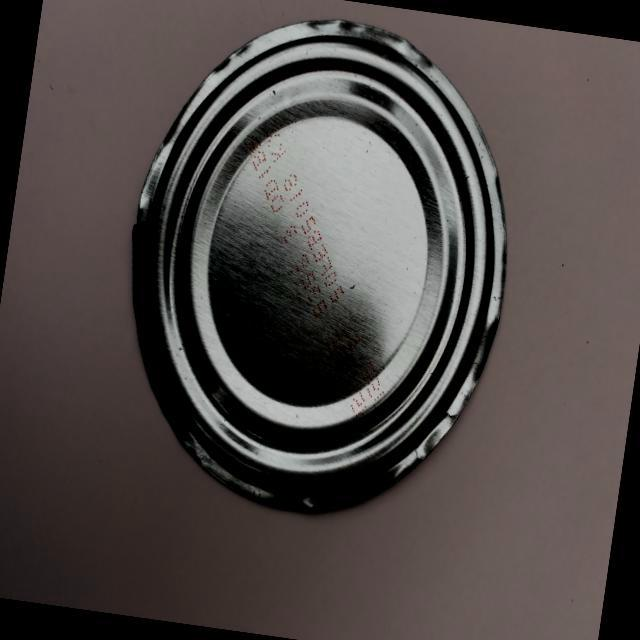metal: (66, 0, 554, 553)
